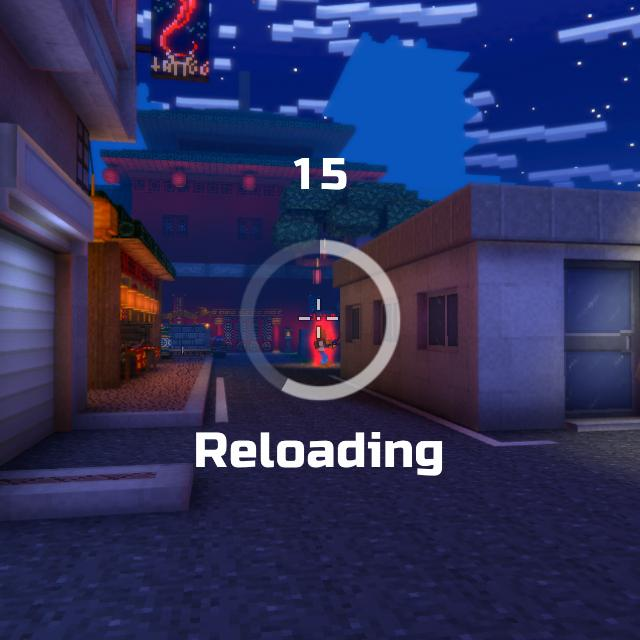Enemy: (313, 329, 336, 367)
